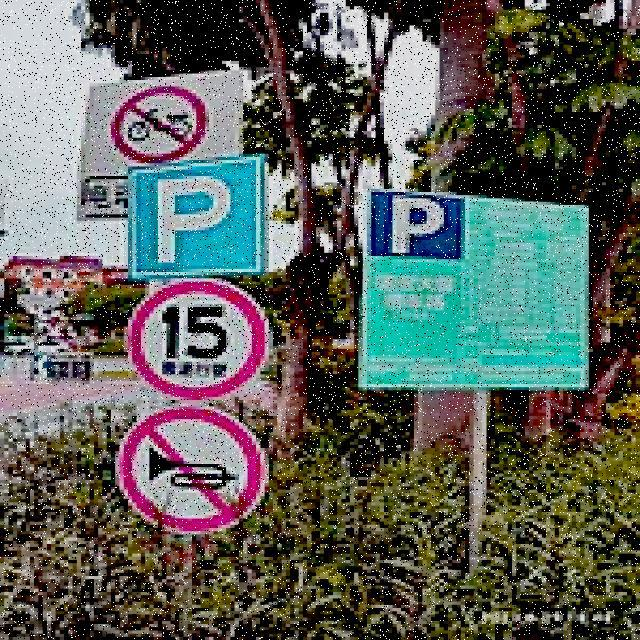Traffic sign: (112, 149, 272, 543)
